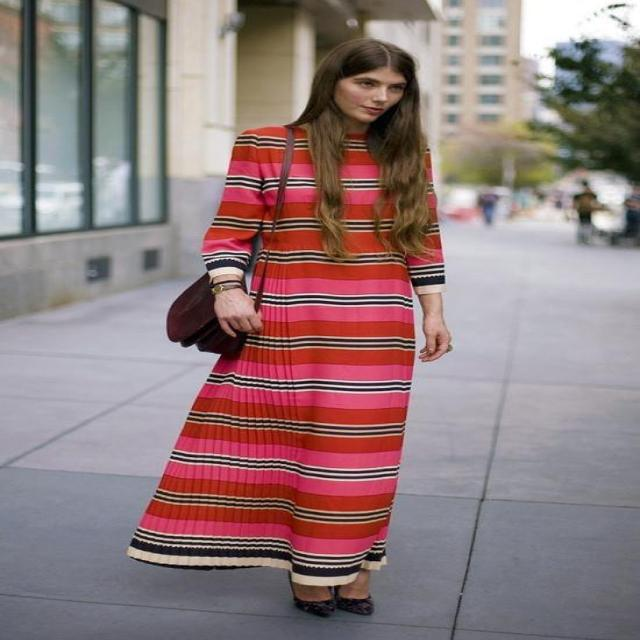dress: (130, 125, 447, 588)
